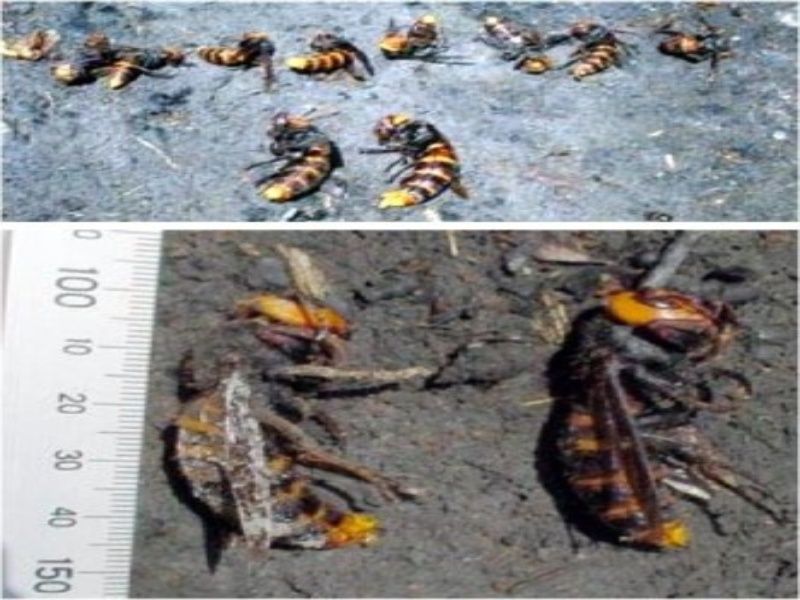asian_giant_hornet: (169, 292, 383, 552), (542, 284, 740, 561), (369, 110, 467, 212), (253, 108, 347, 202), (480, 12, 554, 76), (566, 18, 639, 78), (287, 26, 371, 78), (106, 44, 193, 90), (193, 28, 280, 70), (378, 14, 439, 62)
